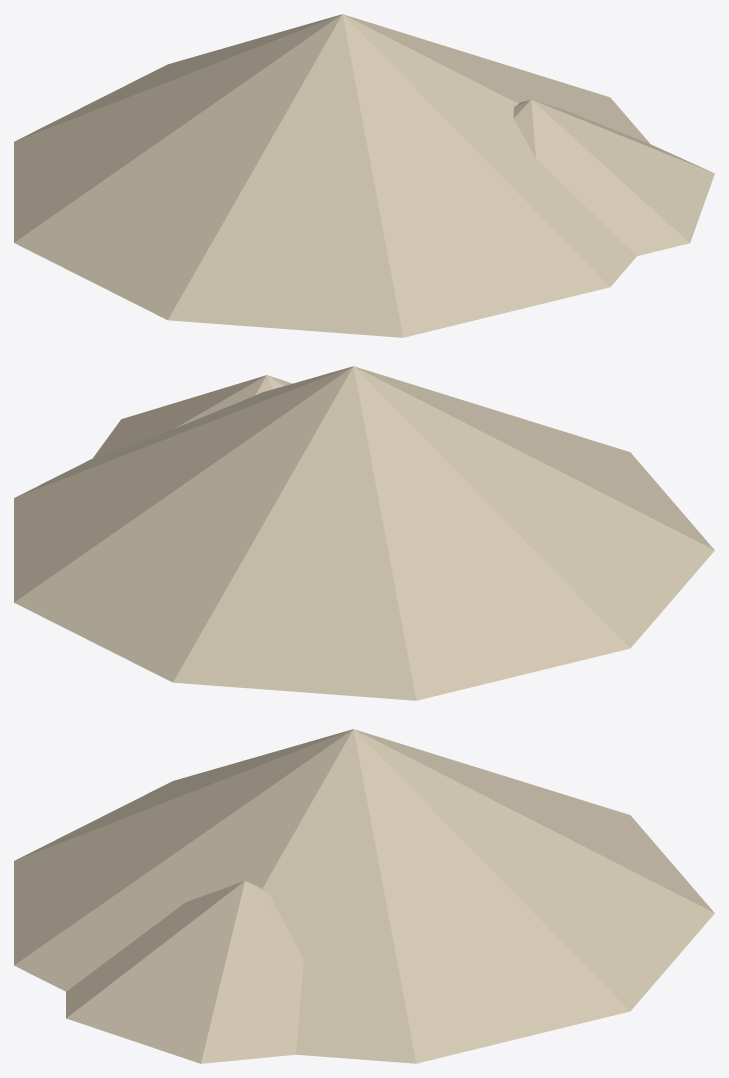
Rendered from Kum_Yigini.glb.
The picture shows the model from 3 angles, top to bottom: view 1: azimuth 30°, elevation 25°; view 2: azimuth 150°, elevation 25°; view 3: azimuth 270°, elevation 25°; orthographic projection. The views are drawn at different scales.
Visible parts, largest first — view 1: Kum_Yigini; view 2: Kum_Yigini; view 3: Kum_Yigini.
Boxes of the visible parts, left/top/right/bottom form: Kum_Yigini: left=14, top=14, right=714, bottom=337; Kum_Yigini: left=14, top=366, right=714, bottom=700; Kum_Yigini: left=14, top=729, right=714, bottom=1063.
Bounding box in the file's own units: 3.15 × 0.9 × 3.1.
